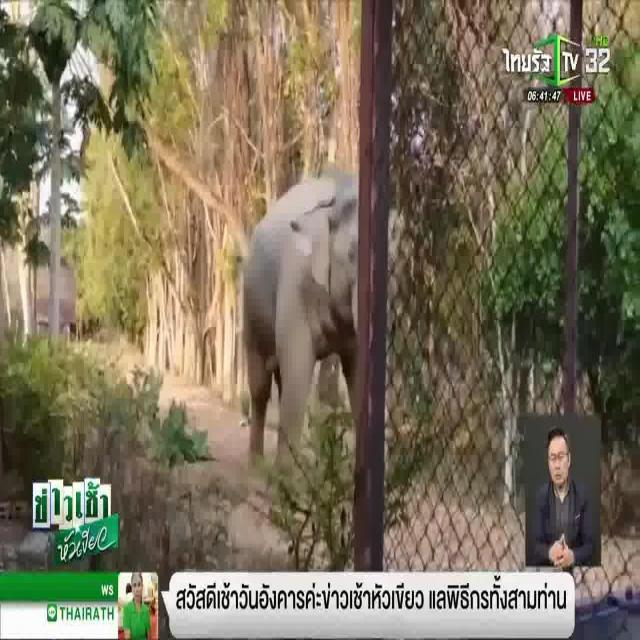Elephant: (248, 172, 359, 446)
